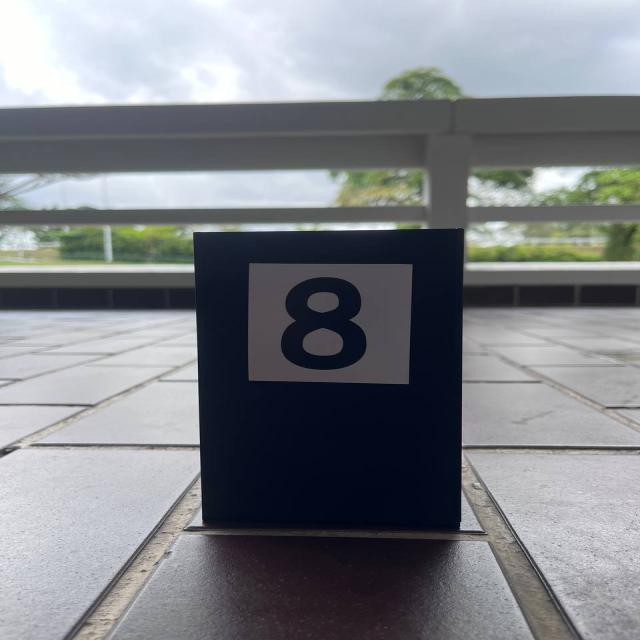eight_id18: (248, 264, 409, 384)
